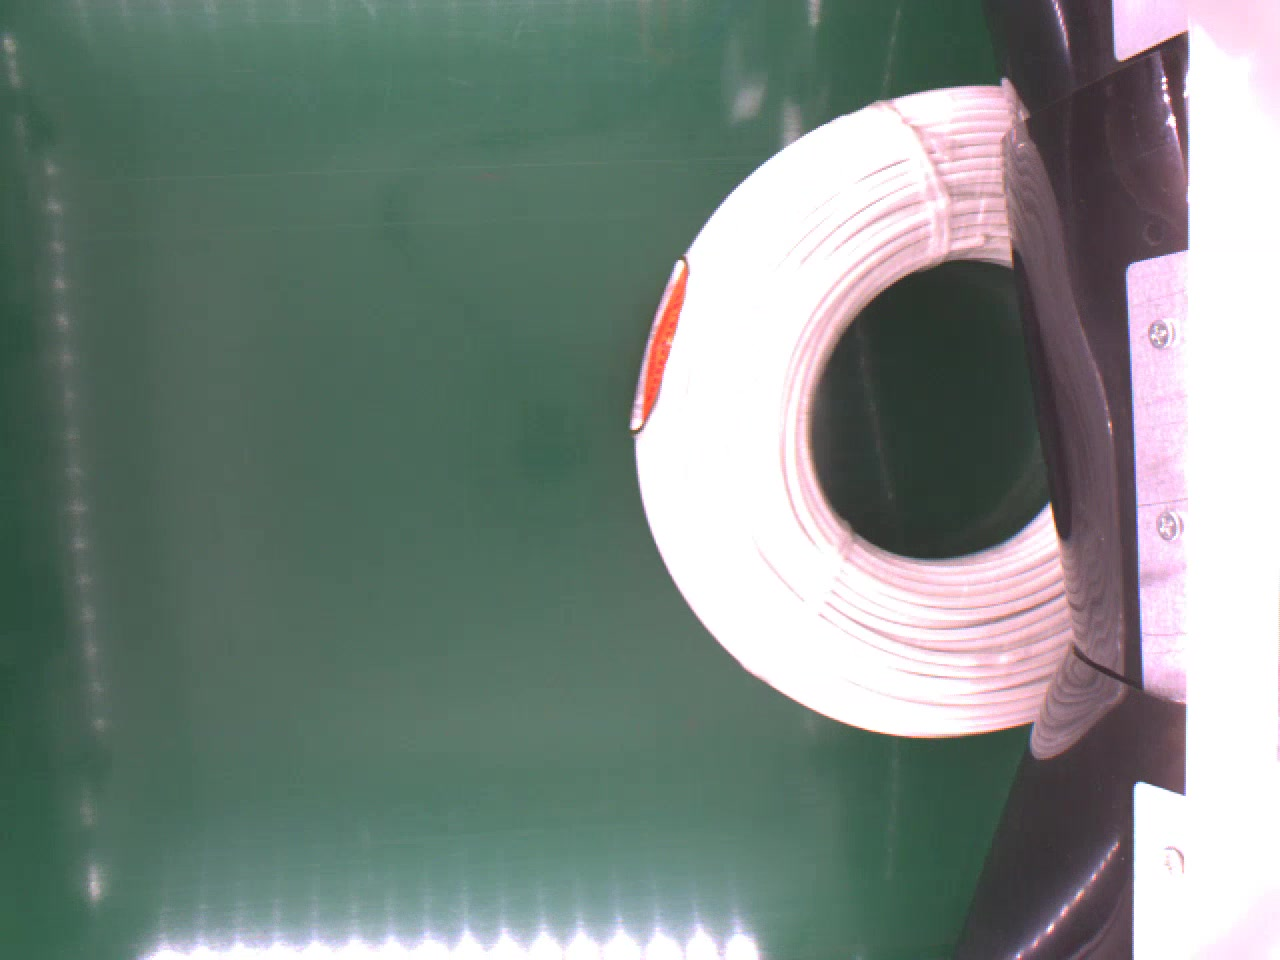white: (628, 83, 1072, 744)
